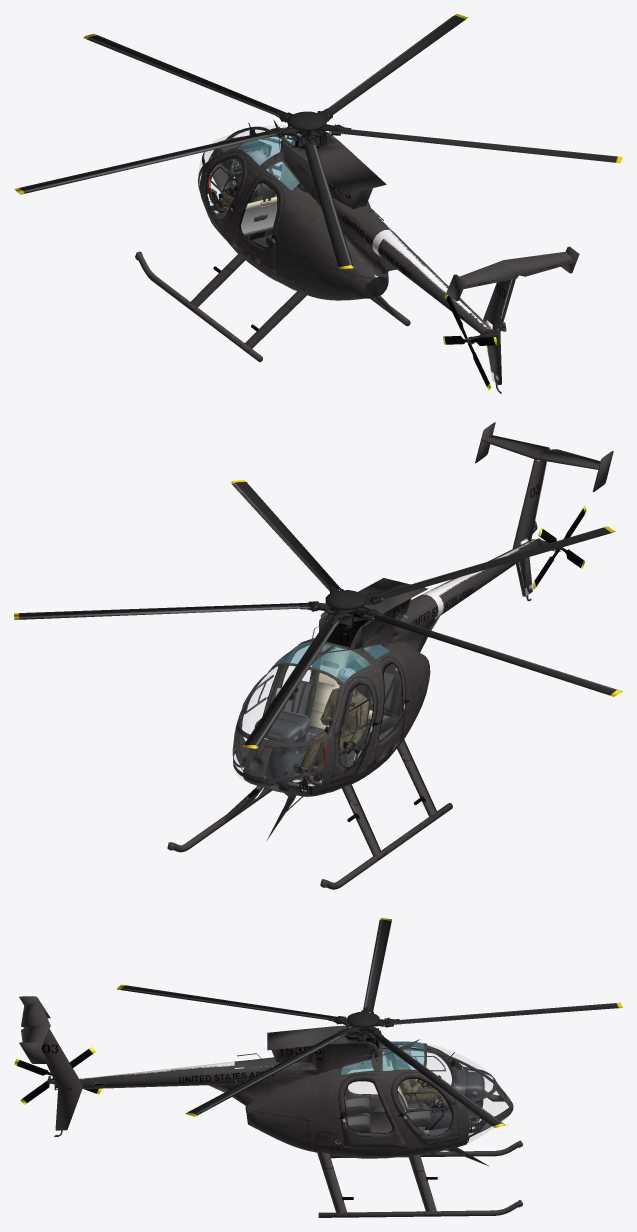
The picture shows the model from 3 angles, top to bottom: view 1: azimuth 30°, elevation 25°; view 2: azimuth 150°, elevation 25°; view 3: azimuth 270°, elevation 25°; orthographic projection. The views are drawn at different scales.
Parts seen in each view (by area): view 1: ext_fuse1, rotor_main, int_fuse, ext_fuse1_doors, ext_fuse1_skids, ixt_seats, glasss_grn, ixt_console, rotor_tail, ixt_pilotR; view 2: ext_fuse1, rotor_main, ixt_seats, ext_fuse1_doors, ext_fuse1_skids, int_fuse, ixt_console, ixt_pilotR, glasss_grn, glass, rotor_tail; view 3: ext_fuse1, rotor_main, ext_fuse1_doors, int_fuse, ext_fuse1_skids, ixt_seats, glass, ixt_console, glasss_grn, ixt_pilotR, rotor_tail, int_fuse_floor.
Part boxes in pixels (x1,y1,x2,y2): ext_fuse1: [198, 119, 579, 393]; rotor_main: [14, 14, 622, 269]; int_fuse: [198, 128, 388, 300]; ext_fuse1_doors: [204, 152, 283, 273]; ext_fuse1_skids: [135, 251, 410, 362]; ixt_seats: [228, 163, 299, 247]; glasss_grn: [238, 128, 301, 190]; ixt_console: [207, 139, 271, 194]; rotor_tail: [443, 294, 497, 390]; ixt_pilotR: [209, 150, 277, 221]; ext_fuse1: [233, 422, 613, 840]; rotor_main: [14, 480, 622, 748]; ixt_seats: [275, 644, 402, 767]; ext_fuse1_doors: [239, 642, 409, 783]; ext_fuse1_skids: [167, 739, 452, 889]; int_fuse: [232, 640, 430, 794]; ixt_console: [254, 709, 326, 791]; ixt_pilotR: [293, 668, 369, 781]; glasss_grn: [274, 638, 389, 682]; glass: [234, 666, 310, 781]; rotor_tail: [532, 506, 586, 589]; ext_fuse1: [19, 996, 513, 1166]; rotor_main: [117, 918, 622, 1127]; ext_fuse1_doors: [338, 1043, 458, 1149]; int_fuse: [245, 1042, 511, 1158]; ext_fuse1_skids: [317, 1140, 522, 1217]; ixt_seats: [341, 1048, 431, 1133]; glass: [348, 1044, 508, 1143]; ixt_console: [425, 1069, 484, 1132]; glasss_grn: [341, 1041, 424, 1074]; ixt_pilotR: [394, 1043, 449, 1108]; rotor_tail: [14, 1047, 101, 1104]; int_fuse_floor: [347, 1108, 448, 1135].
Size of the model in its own units: 7.48 by 2.89 by 9.2.
Materials: 12 (11 with a texture image).
